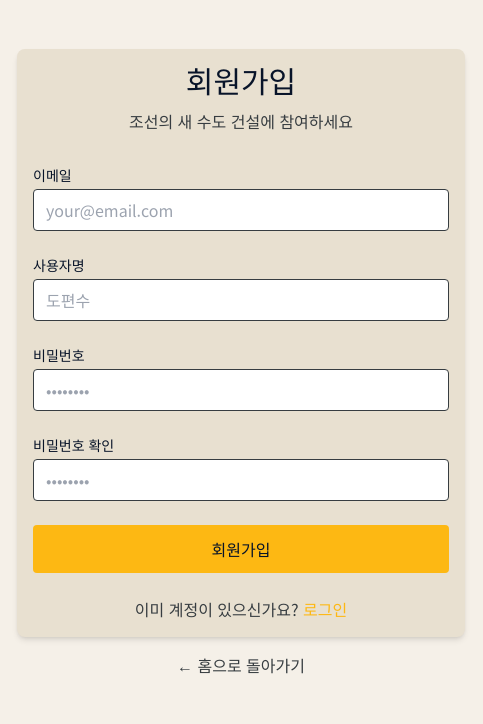
Test: Register Page › Validation › should show error when passwords do not match
Type "test@example.com" into the field labelled "이메일".
click(241, 210); type("test@example.com")  # box left=33, top=189, right=449, bottom=231
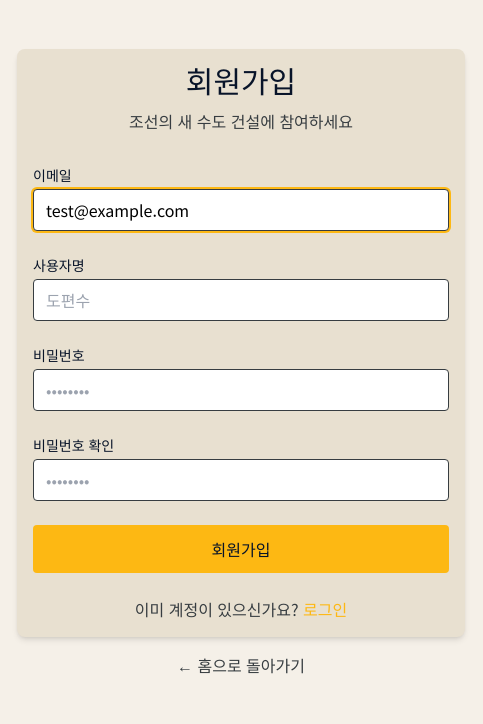
Type "testuser" into the field labelled "사용자명".
click(241, 300); type("testuser")  # box left=33, top=279, right=449, bottom=321
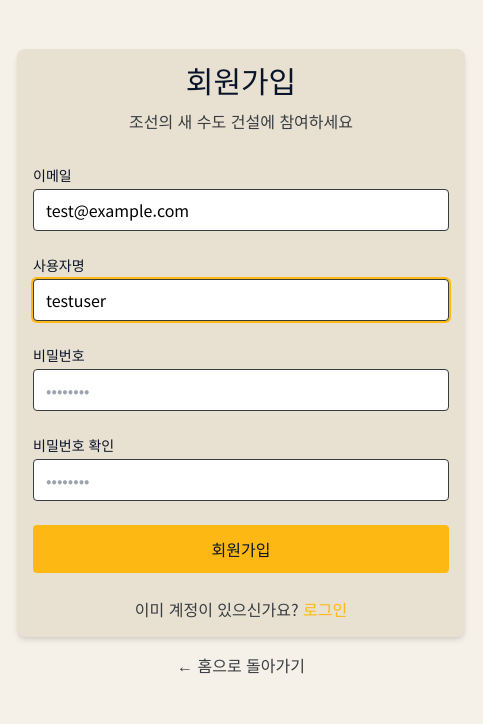
Type "password123" into the password field labelled "비밀번호".
click(241, 390); type("password123")  # box left=33, top=369, right=449, bottom=411
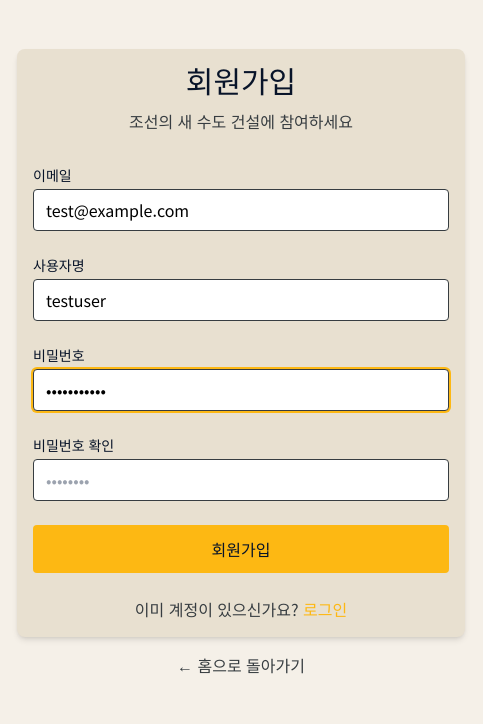
Type "differentpassword" into the password field labelled "비밀번호 확인".
click(241, 480); type("differentpassword")  # box left=33, top=459, right=449, bottom=501
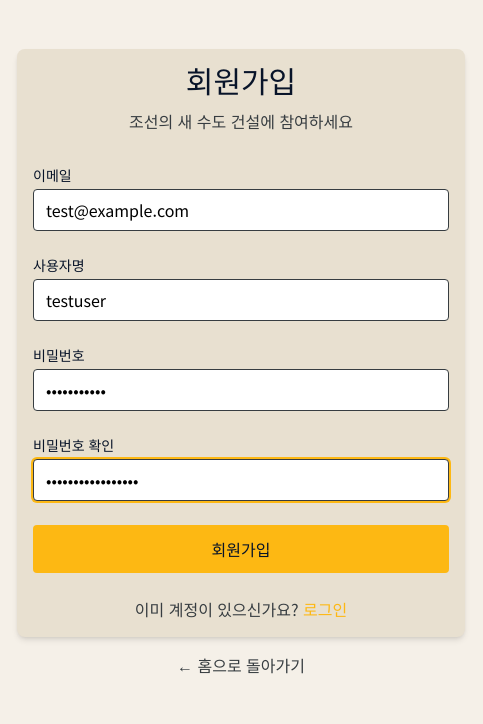
Click the button "회원가입".
click(241, 549)  # box left=33, top=525, right=449, bottom=573
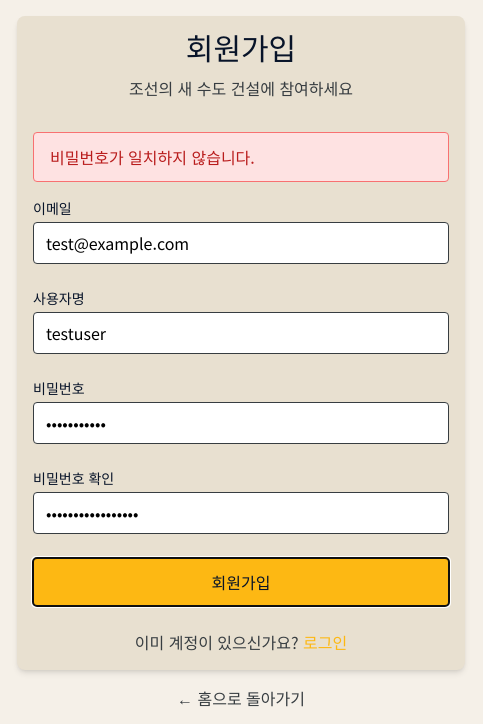
Result: the text "비밀번호가 일치하지 않습니다." is shown at left=33, top=132, right=449, bottom=182
